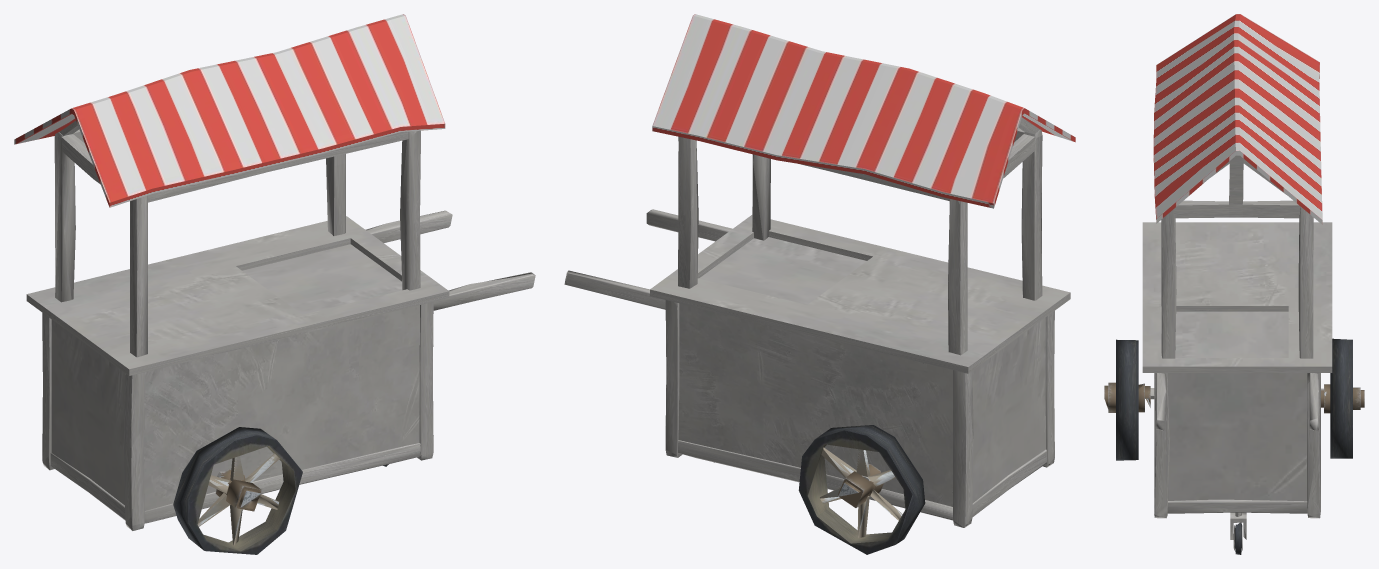
File: xe-hu-tieu.glb
3 renders of one model, left to right at view 1: azimuth 30°, elevation 25°; view 2: azimuth 150°, elevation 25°; view 3: azimuth 270°, elevation 25°, orthographic. The views are drawn at different scales.
Visible parts, largest first — view 1: Cube_Metal_0, Plane_Roof_0, Cube.004__0, Cylinder.002_VoBanhXe_0, Cylinder.002_CamXe_0, Cylinder.002_Loixe_0; view 2: Cube_Metal_0, Plane_Roof_0, Cube.004__0, Cylinder.002_VoBanhXe_0, Cylinder.002_CamXe_0, Cylinder.002_Loixe_0; view 3: Cube_Metal_0, Plane_Roof_0, Cube.004__0, Cylinder.002_VoBanhXe_0, Cylinder.002_Loixe_0.
Boxes of the visible parts, x1,y1,x2,y2 form: Cube_Metal_0: (26, 129, 535, 510); Plane_Roof_0: (14, 14, 445, 207); Cube.004__0: (42, 121, 433, 530); Cylinder.002_VoBanhXe_0: (173, 427, 388, 554); Cylinder.002_CamXe_0: (197, 453, 279, 545); Cylinder.002_Loixe_0: (215, 469, 261, 511); Cube_Metal_0: (564, 128, 1070, 506); Plane_Roof_0: (652, 14, 1075, 208); Cube.004__0: (665, 117, 1054, 527); Cylinder.002_VoBanhXe_0: (714, 425, 925, 554); Cylinder.002_CamXe_0: (820, 447, 902, 538); Cylinder.002_Loixe_0: (837, 464, 883, 507); Cube_Metal_0: (1142, 155, 1332, 501); Plane_Roof_0: (1153, 14, 1322, 224); Cube.004__0: (1145, 159, 1323, 550); Cylinder.002_VoBanhXe_0: (1116, 338, 1352, 554); Cylinder.002_Loixe_0: (1104, 382, 1364, 413).
Bounding box in the file's own units: 1 × 0.9852 × 0.5639.
6 materials, 6 textured.
